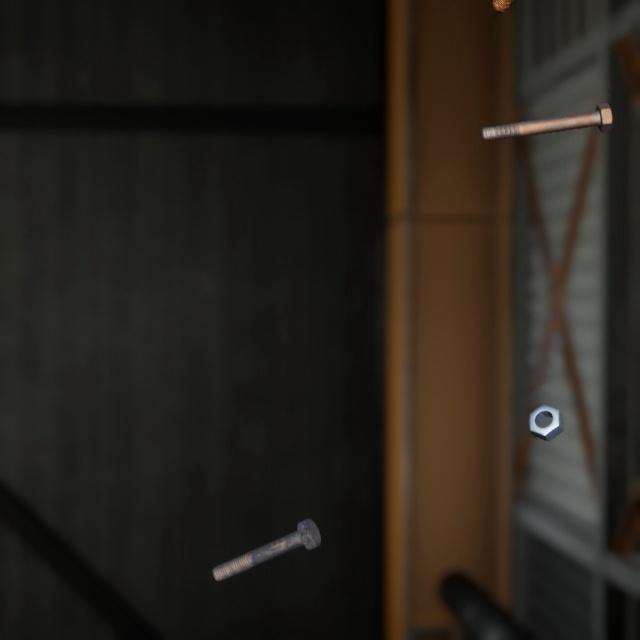bolt: (207, 490, 325, 563), (476, 86, 617, 133)
nut: (524, 379, 567, 425)
